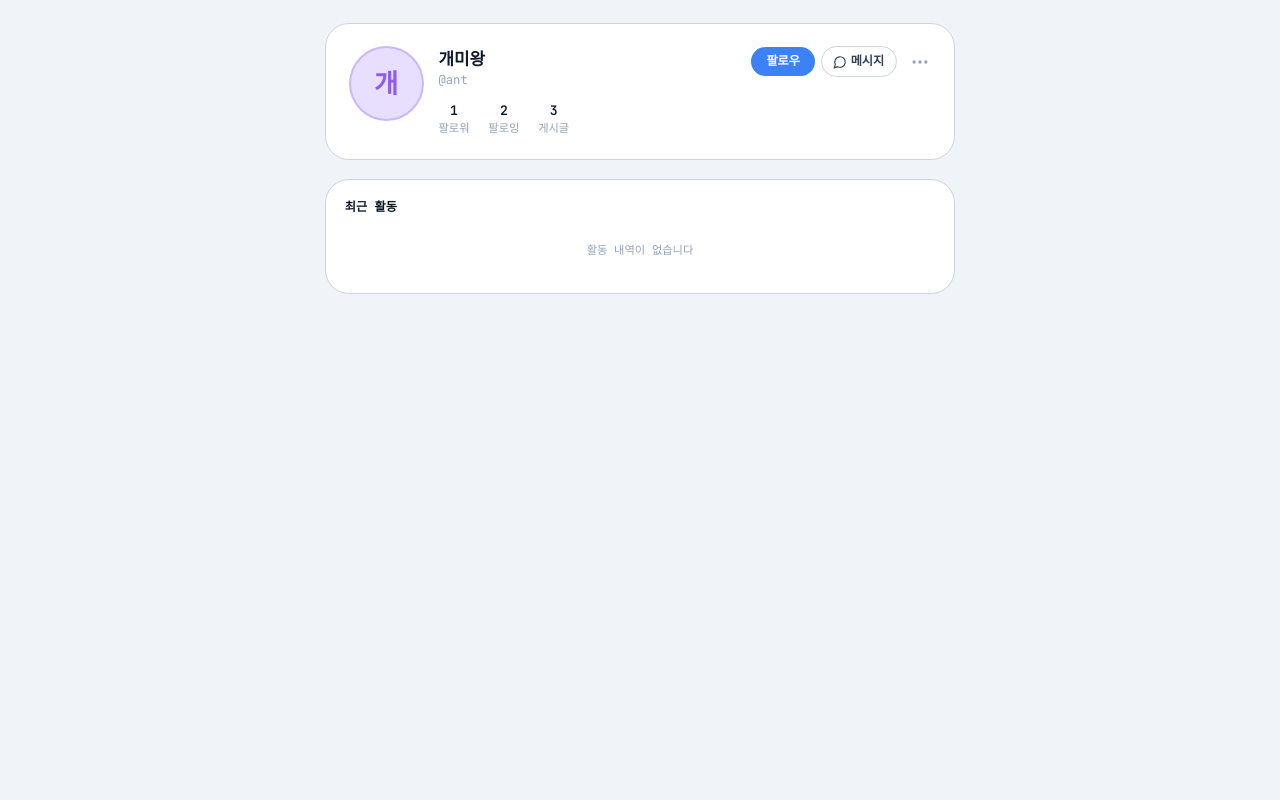
Test case: 프로필의 차단 › ⋯ → 차단하기 — 확인하면 막는다
Click the button named "사용자 메뉴": click(920, 62) [904,46,935,77]
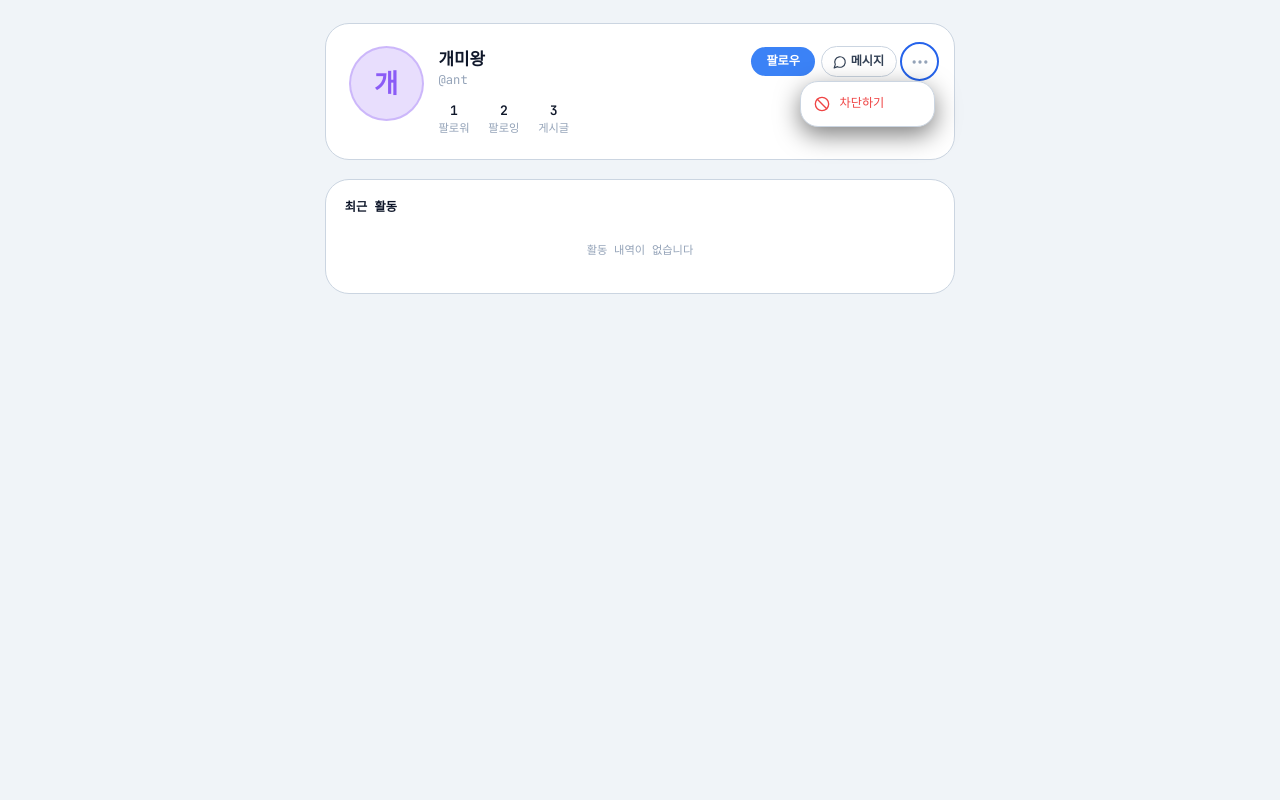
Click the menu item "차단하기": click(868, 104) [801,86,934,122]
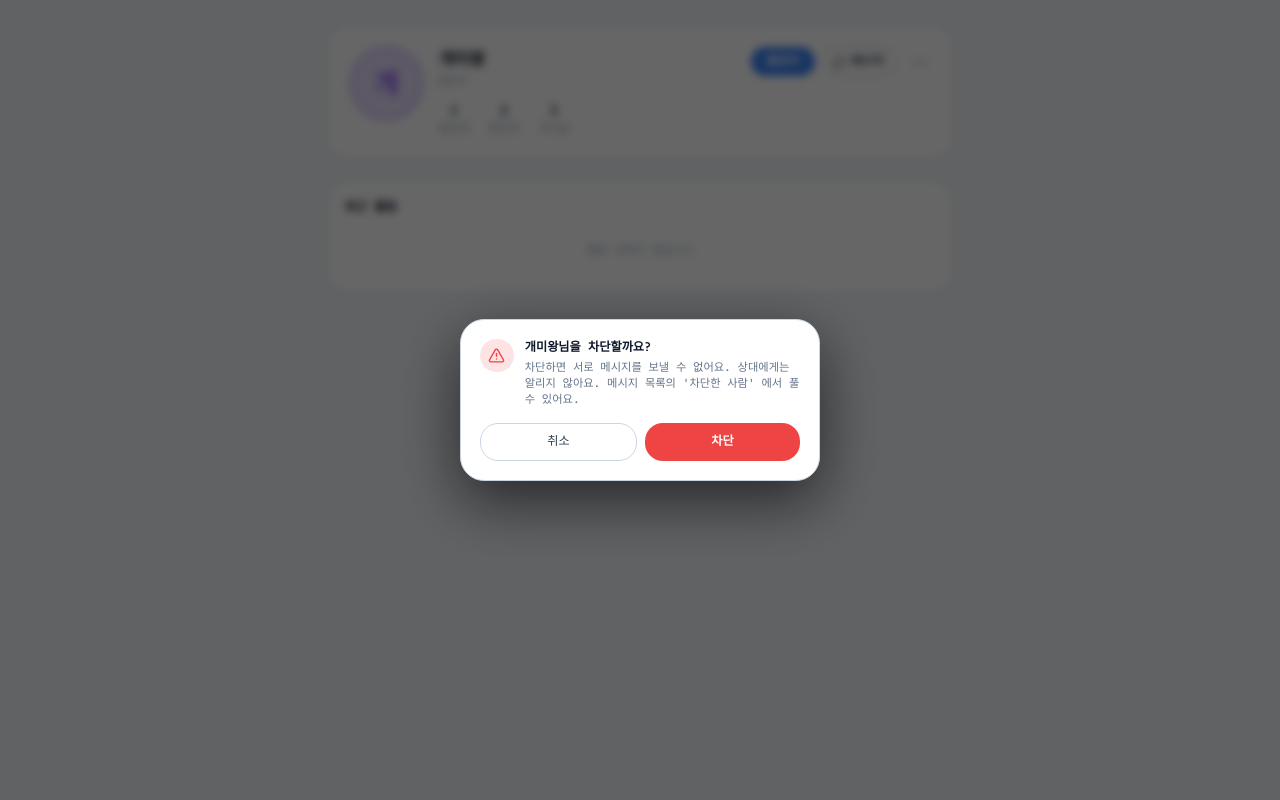
Now the heading "개미왕님을 차단할까요?" is shown, box [525,338,651,354]
Click the button "차단": click(723, 442) [645,423,800,462]
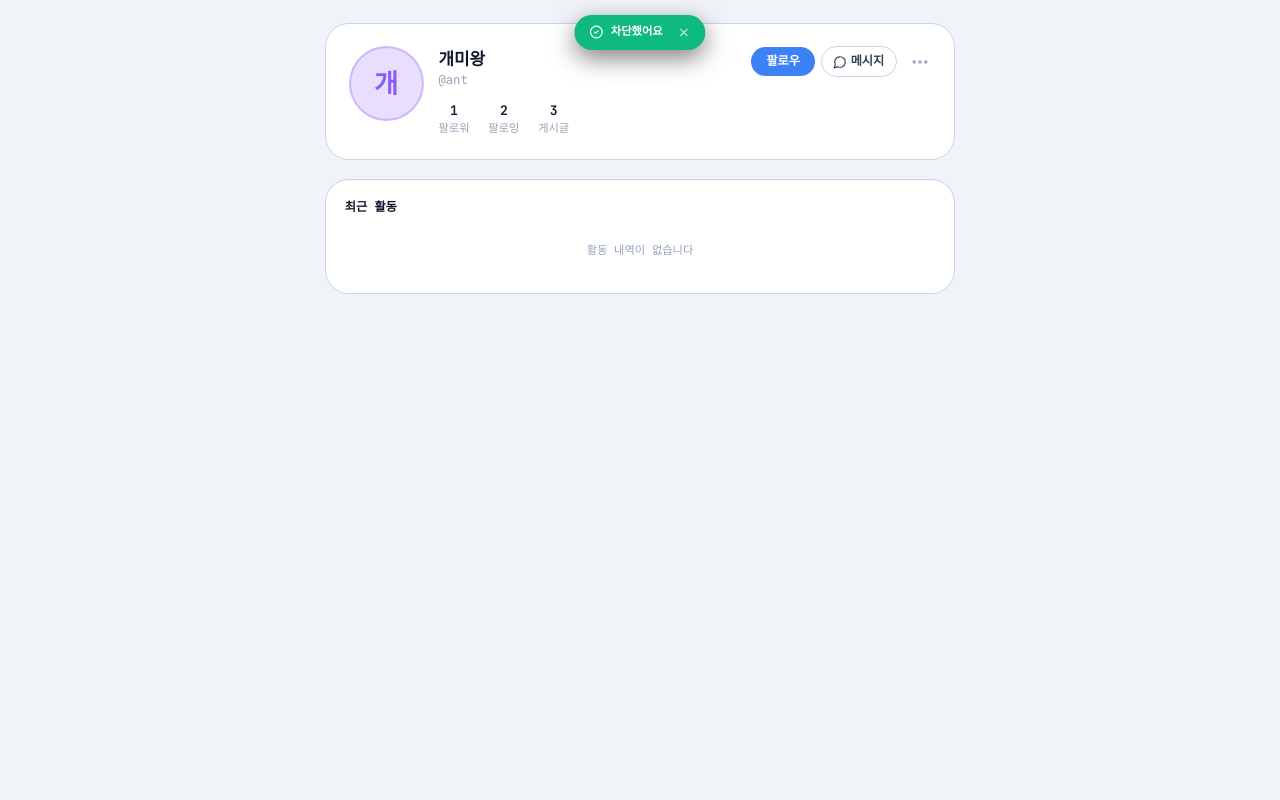
Now the text "차단했어요" is shown, box [611,24,663,40]
